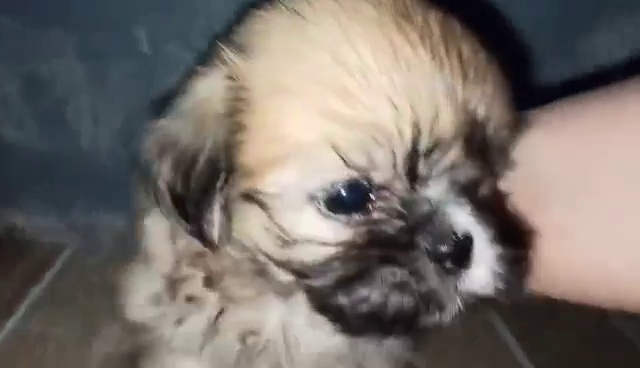dog: (85, 13, 523, 368)
